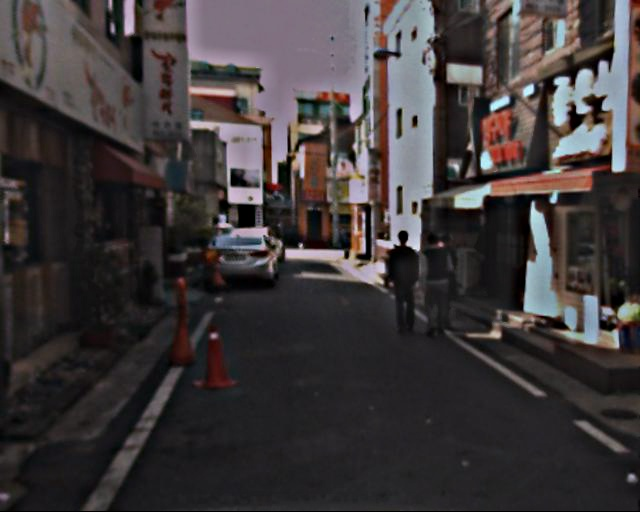person: (385, 231, 428, 336), (417, 234, 460, 338)
